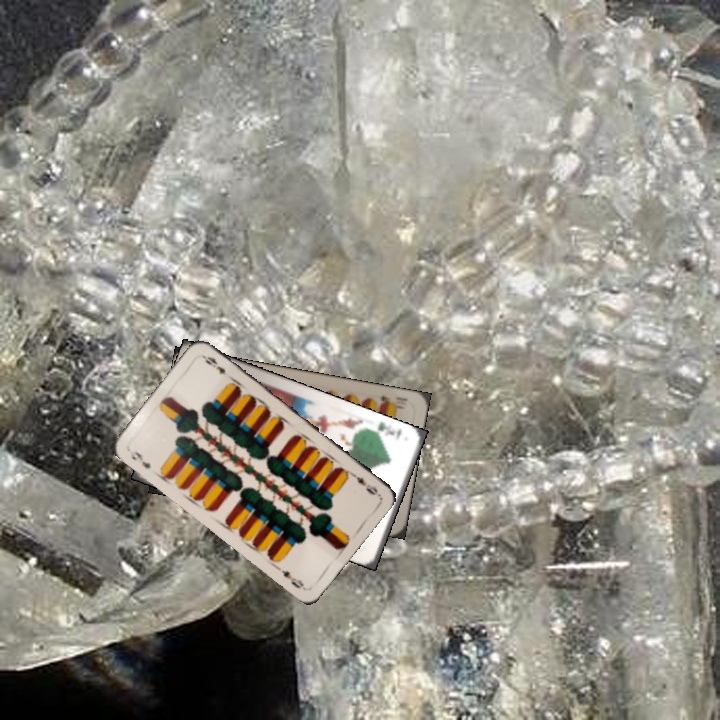E10: (377, 391, 410, 412)
E9: (347, 468, 382, 498), (126, 447, 153, 471)
GK: (367, 418, 404, 443)
